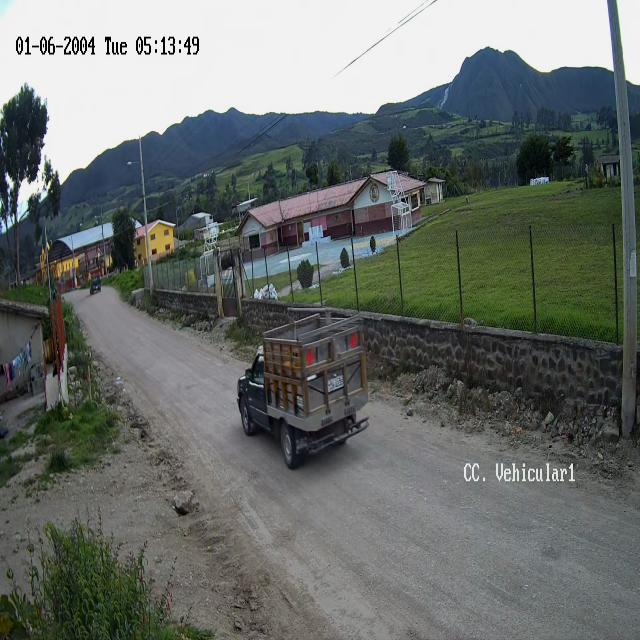CMT: (238, 313, 368, 471)
